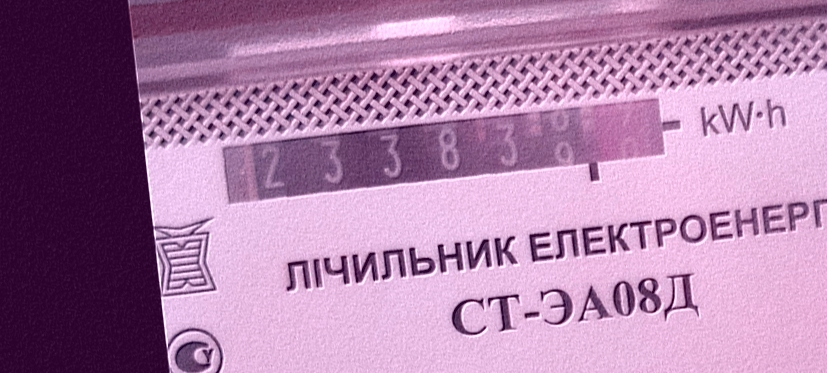0: (619, 134, 644, 162)
2: (259, 143, 289, 192)
3: (375, 130, 409, 182), (317, 135, 350, 187), (494, 120, 523, 168)
8: (434, 125, 466, 174), (549, 106, 574, 136)
9: (614, 98, 639, 130), (553, 138, 577, 169)
screen: (210, 85, 690, 227)
